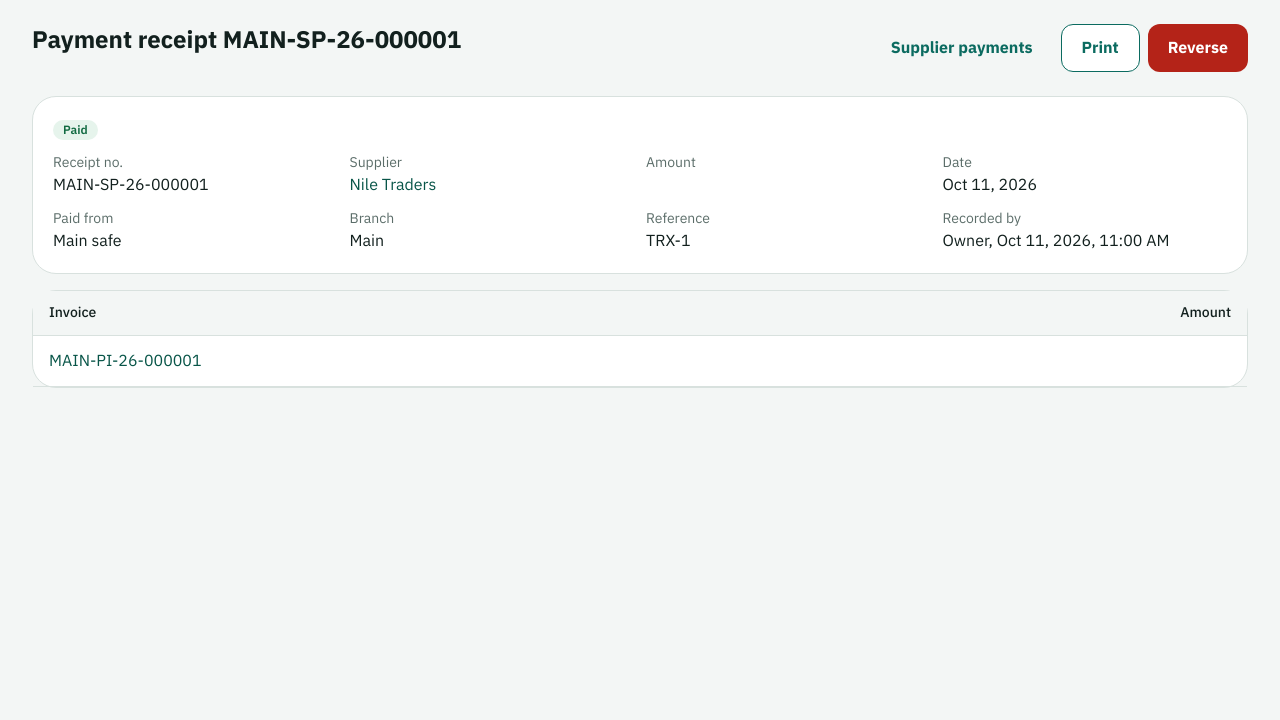
Test: U03 supplier payments list and receipt › the owner reverses with a reason, once (even on a double click)
Click the button "Reverse" at (1198, 48), box [1148, 24, 1248, 72]
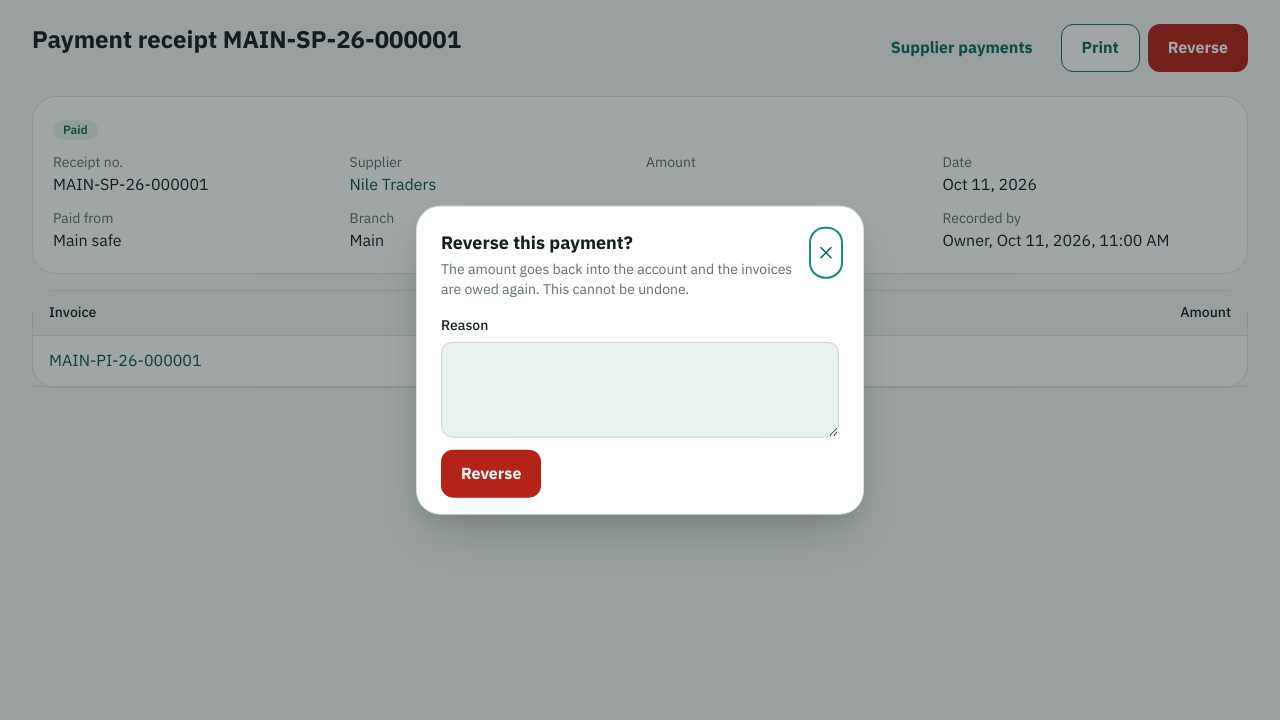
Click the button "Reverse" at (491, 473), box [441, 449, 541, 497]
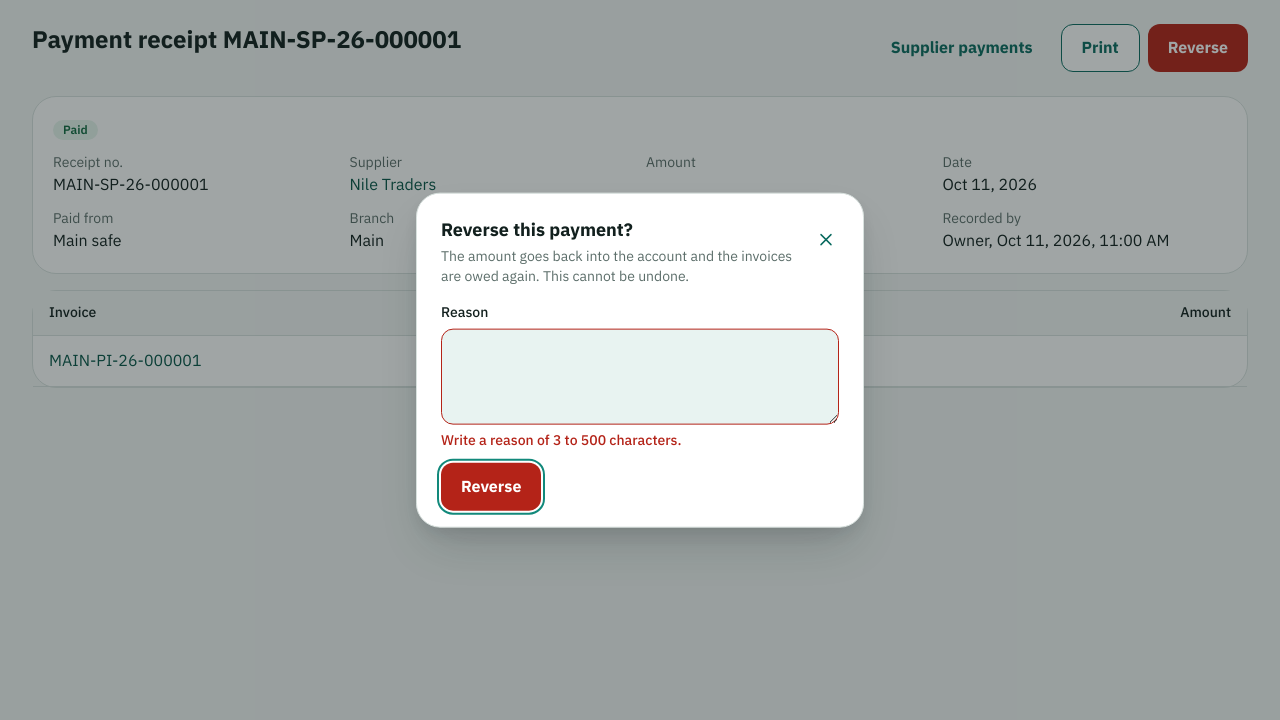
Now the text "Write a reason of 3 to 500 characters." is shown, box [441, 429, 682, 450]
Type "  Wrong supplier " into the text box labelled "Reason" at (640, 376), box [441, 328, 839, 424]
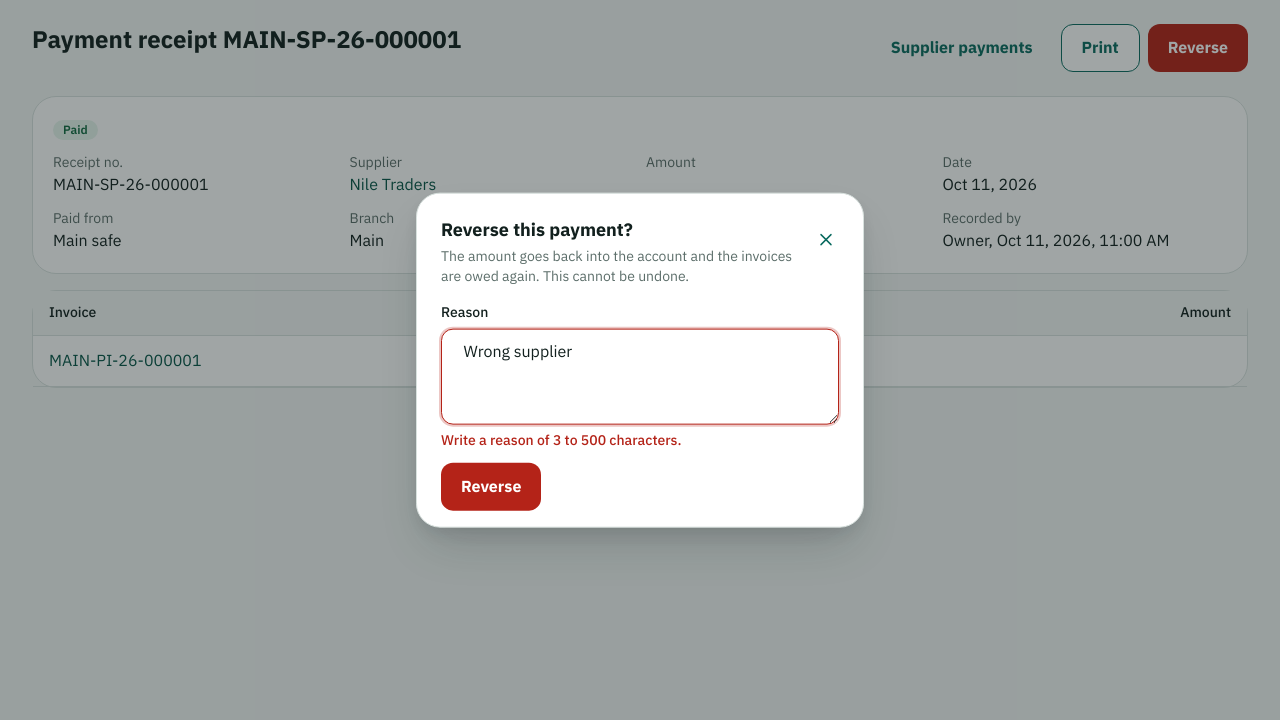
Double-click the button "Reverse" at (491, 486), box [441, 462, 541, 510]
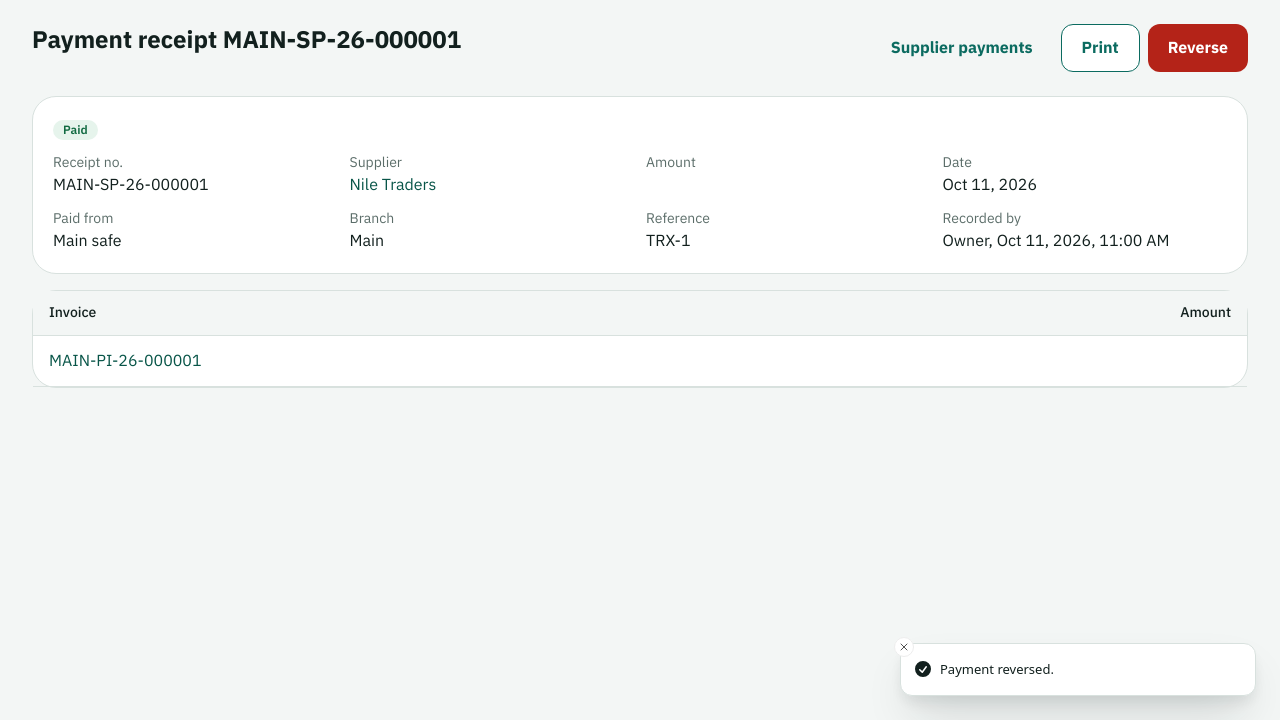
Now the text "Payment reversed." is shown, box [940, 660, 1054, 679]
